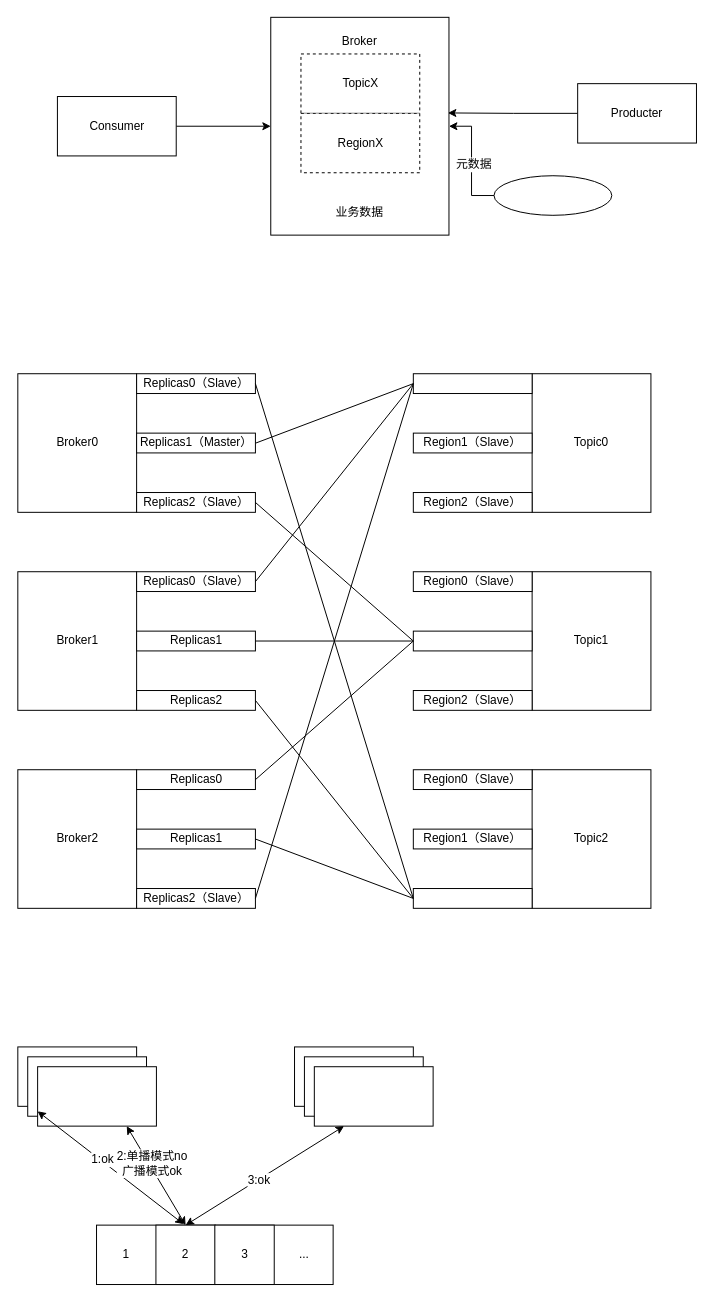
Some shapes in this 714 by 1302 pixel diagram are drawn without their labels. The shapes that lost their labels are listed below. From the top down, each one's box as (x1, y1, x2, y2) in pixels, then its label:
(493, 175, 612, 215): Zookeeper
(412, 373, 532, 394): Region0
(412, 630, 532, 651): Region1（Master）
(412, 888, 532, 908): Region2（Master）
(37, 1066, 156, 1126): ConsumerGroup0
(313, 1066, 433, 1126): ConsumerGroup1
